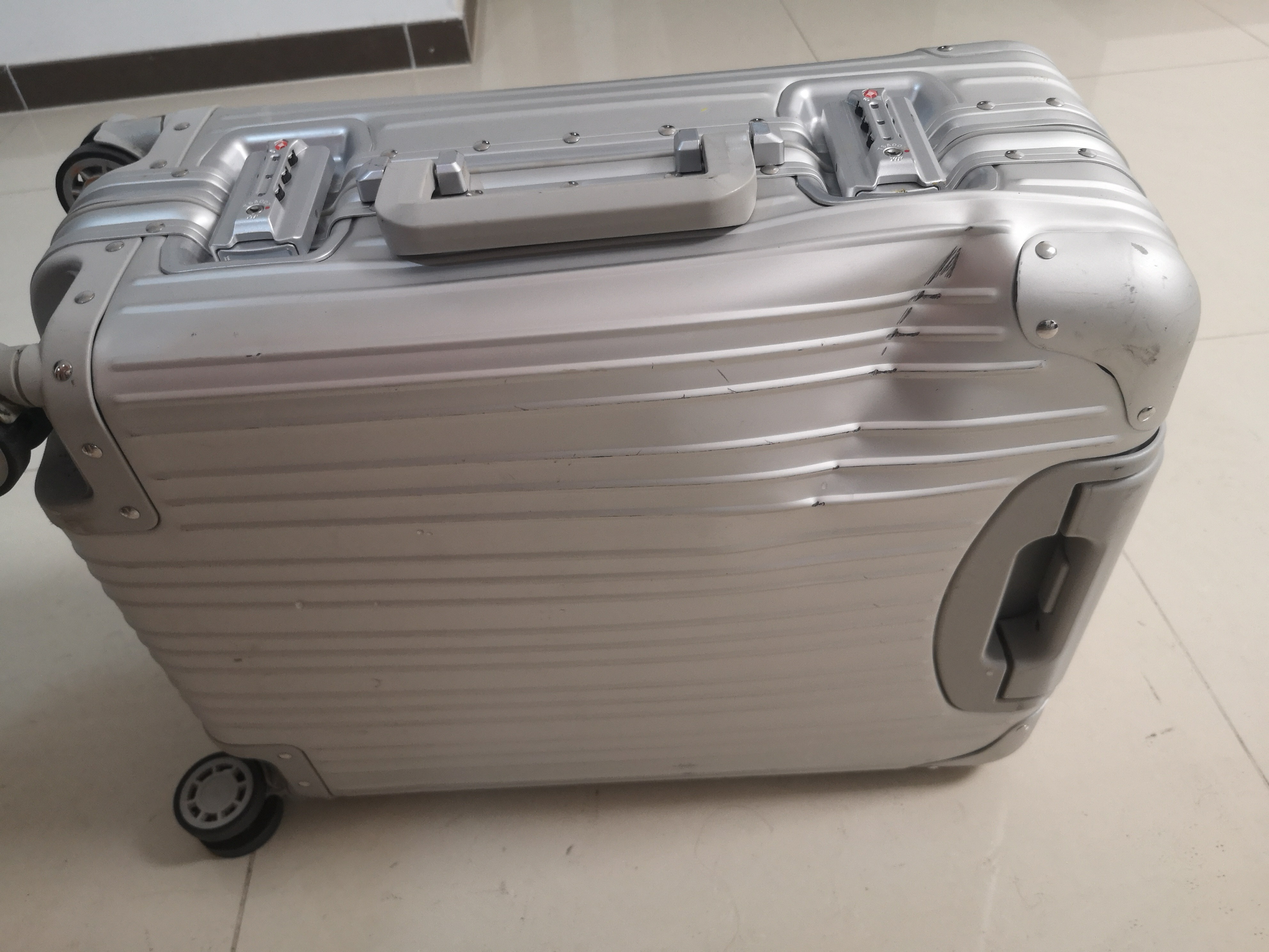rupture: (762, 188, 1012, 523)
